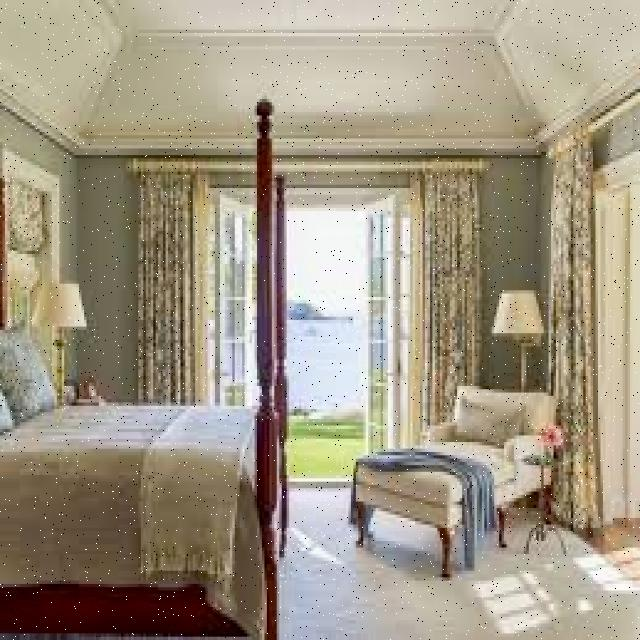bed: (0, 317, 265, 640)
